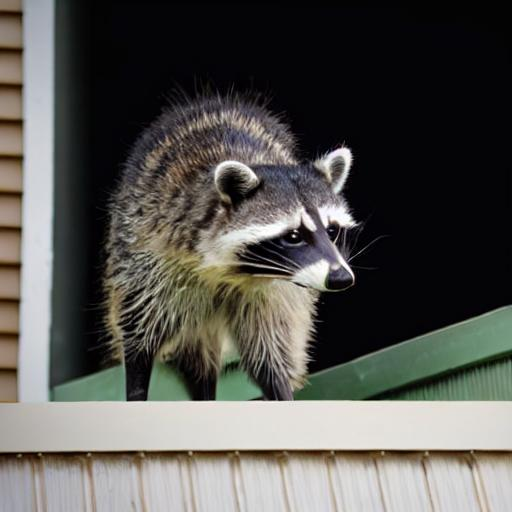raccoon: (94, 83, 369, 401)
